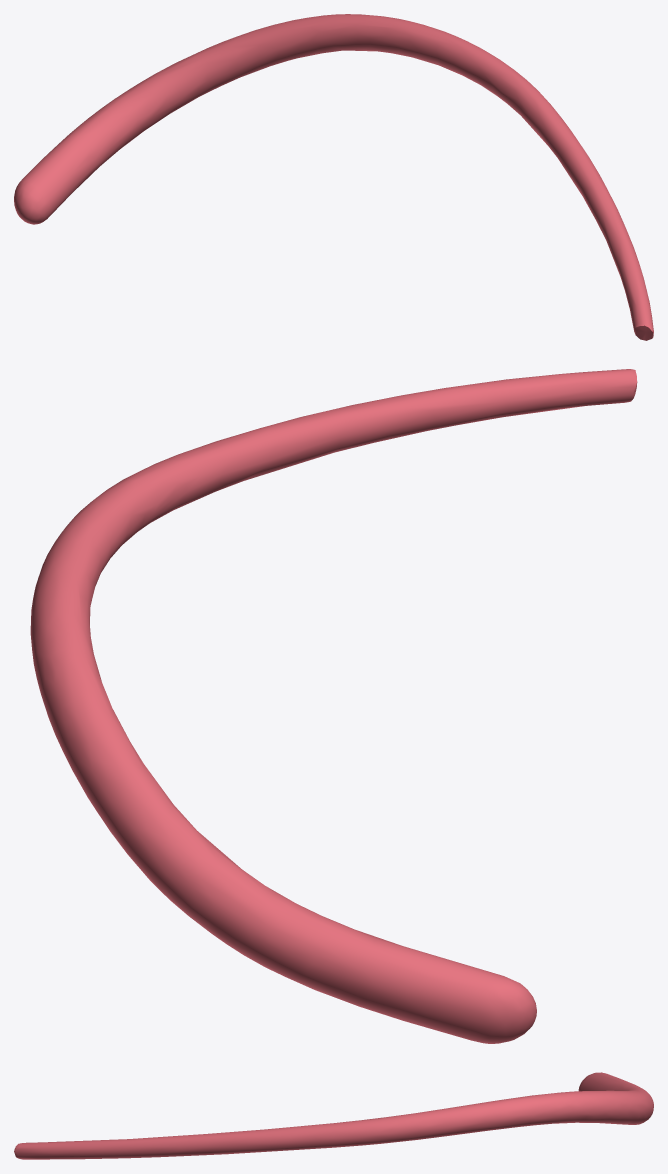
Rendered from fma44888_fj2107.glb.
The picture shows the model from 3 angles, top to bottom: view 1: azimuth 30°, elevation 25°; view 2: azimuth 150°, elevation 25°; view 3: azimuth 270°, elevation 25°; orthographic projection. The views are drawn at different scales.
Parts seen in each view (by area): view 1: FMA44888_FJ2107; view 2: FMA44888_FJ2107; view 3: FMA44888_FJ2107.
Boxes of the visible parts, x1,y1,x2,y2 form: FMA44888_FJ2107: (14, 14, 653, 340); FMA44888_FJ2107: (30, 369, 637, 1043); FMA44888_FJ2107: (14, 1072, 653, 1159).
Size of the model in its own units: 0.0332 by 0.0136 by 0.0579.
